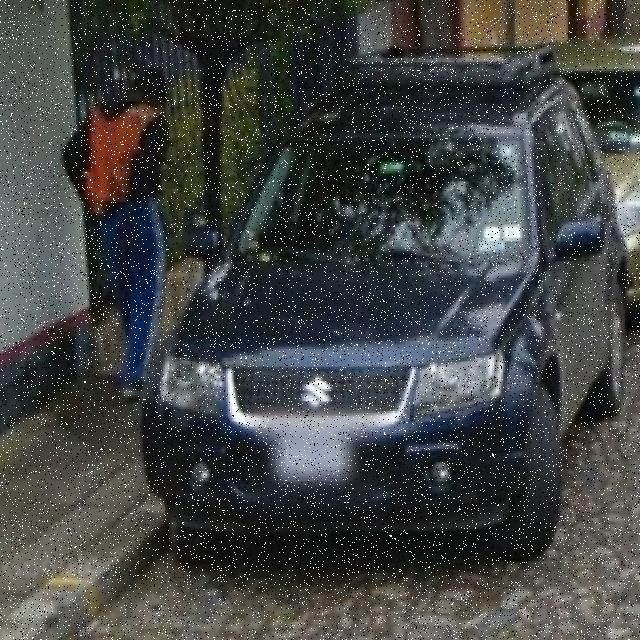cars: (162, 53, 636, 574)
